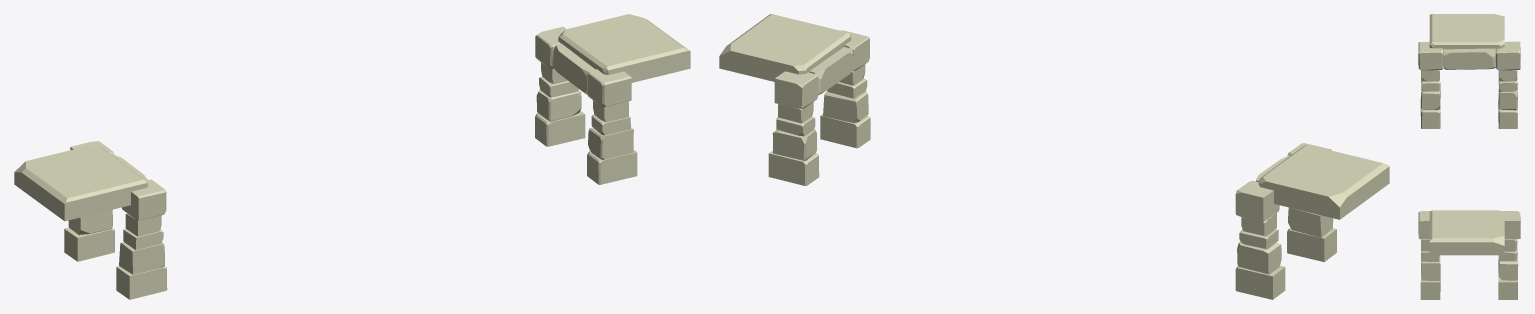
File: ATDoorways.fbx
3 views of the same model, side by side, from view 1: azimuth 30°, elevation 25°; view 2: azimuth 150°, elevation 25°; view 3: azimuth 270°, elevation 25° (orthographic). The views are drawn at different scales.
Visible parts, largest first — view 1: Cube.027, Cube.040, Cube.035, Cube.039, Cube.037, Cube.042, Cube.045, Cube.038, Cube.036, Cube.044, Cube.041; view 2: Cube.027, Cube.044, Cube.040, Cube.035, Cube.042, Cube.037, Cube.045, Cube.041, Cube.043, Cube.039, Cube.036; view 3: Cube.027, Cube.044, Cube.045, Cube.039, Cube.035, Cube.040, Cube.037, Cube.042, Cube.041, Cube.043, Cube.036, Cube.038.
Boxes of the visible parts, x1,y1,x2,y2 form: Cube.027: (14,14,690,221); Cube.040: (64,110,585,261); Cube.035: (116,150,637,299); Cube.039: (122,69,631,220); Cube.037: (119,127,633,274); Cube.042: (68,89,581,234); Cube.045: (110,43,594,179); Cube.038: (125,100,628,236); Cube.036: (123,114,630,249); Cube.044: (70,26,566,154); Cube.041: (539,76,578,97); Cube.027: (719,14,1389,219); Cube.044: (774,71,1279,221); Cube.040: (768,151,1285,299); Cube.035: (820,114,1336,262); Cube.042: (772,129,1281,274); Cube.037: (823,91,1333,237); Cube.045: (809,47,1290,181); Cube.041: (776,116,1278,249); Cube.043: (778,102,1276,236); Cube.039: (841,30,1331,155); Cube.036: (827,78,867,98); Cube.027: (1429,14,1504,255); Cube.044: (1495,41,1520,239); Cube.045: (1443,48,1495,69); Cube.039: (1418,41,1443,239); Cube.035: (1420,98,1440,299); Cube.040: (1498,98,1517,299); Cube.037: (1421,82,1440,280); Cube.042: (1498,82,1518,280); Cube.041: (1498,76,1517,261); Cube.043: (1498,70,1517,251); Cube.036: (1421,74,1439,261); Cube.038: (1421,70,1439,251).
Bounding box in the file's own units: 5523 × 921 × 1051.
